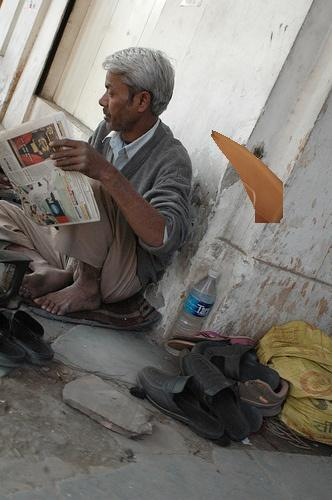tampered: (212, 131, 283, 223)
